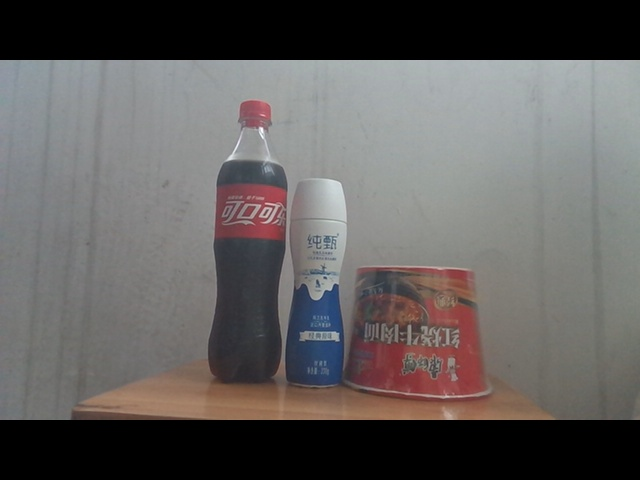cola: (207, 100, 288, 382)
kangshifu: (346, 267, 496, 399)
yogurt: (286, 178, 346, 388)
